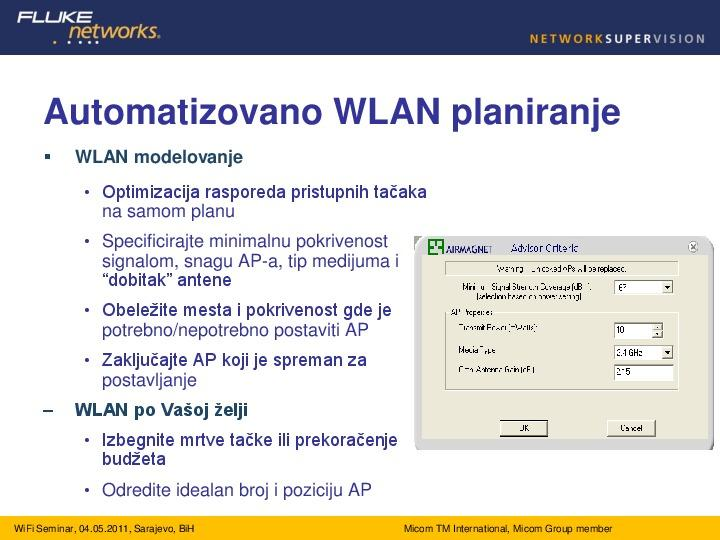paragraph: (17, 141, 696, 504)
subtitle: (33, 76, 633, 142), (65, 391, 262, 423), (74, 140, 253, 174)
title: (10, 4, 715, 51)
